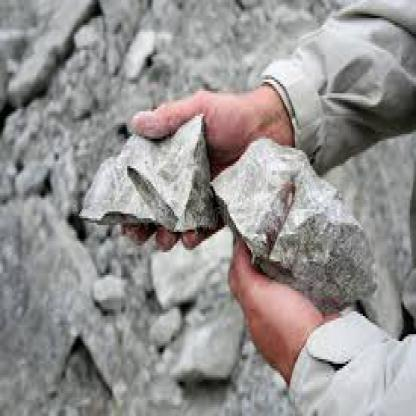Sedimentary_Chalk: (258, 152, 362, 296), (121, 143, 203, 266)
